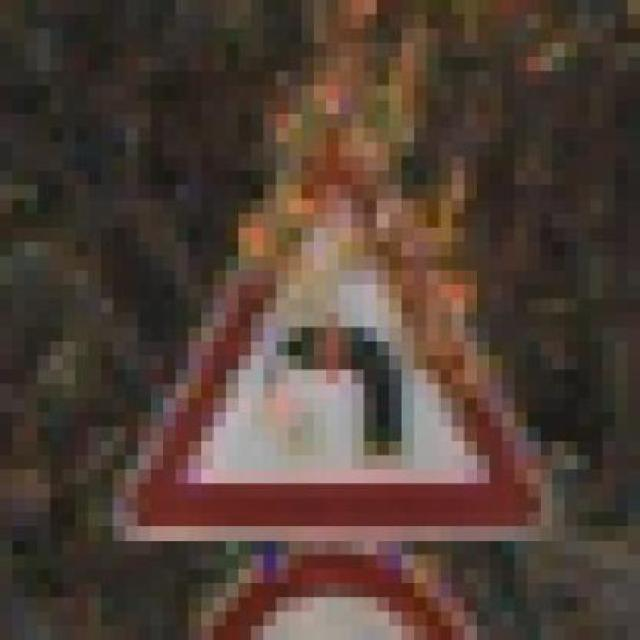Dangerous Left Curve Ahead: (76, 85, 564, 541)
